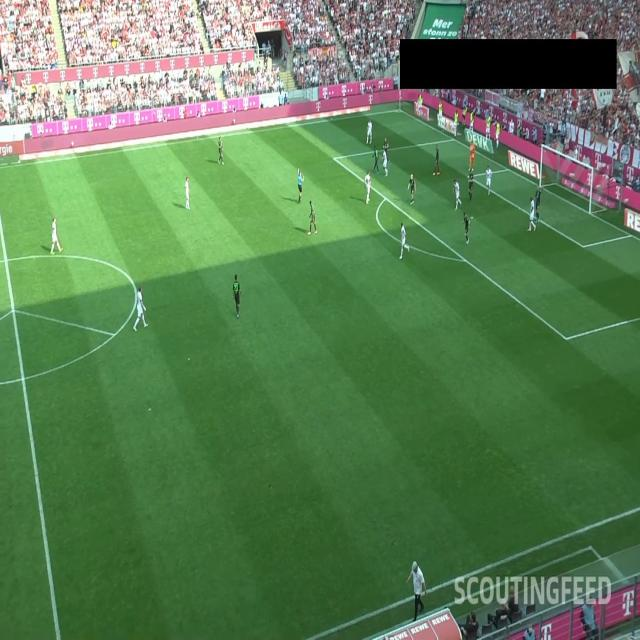ball: (470, 148, 472, 152)
